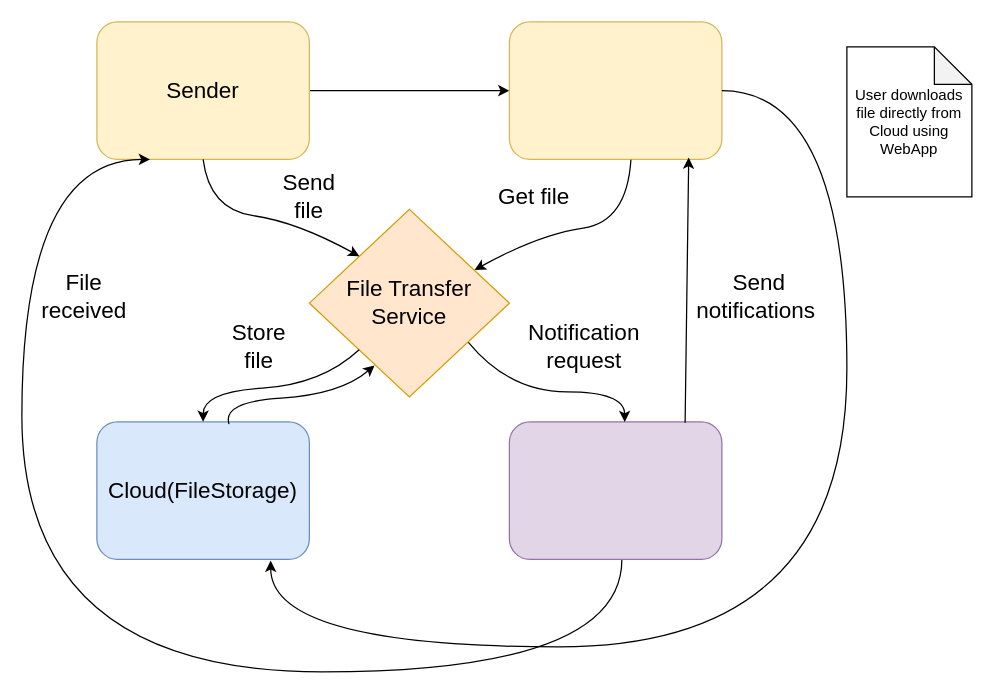
Some shapes in this 994 by 694 pixel diagram are drawn without their labels. Here are the shapes that lost their labels. From the top down, the box of each, then its label:
(508, 21, 722, 159): Recepient
(508, 421, 722, 559): Email Service
